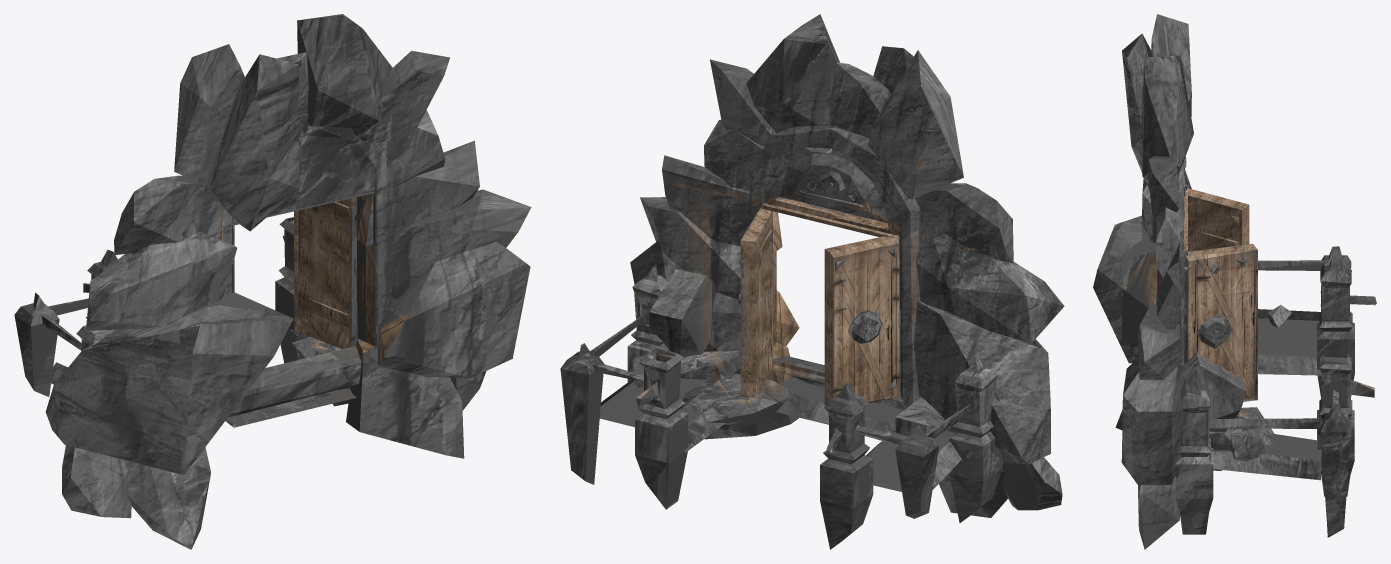
Rendered from gate2.glb.
The picture shows the model from 3 angles, left to right: view 1: azimuth 30°, elevation 25°; view 2: azimuth 150°, elevation 25°; view 3: azimuth 270°, elevation 25°; orthographic projection. The views are drawn at different scales.
Visible parts, largest first — view 1: Cube.002; view 2: Cube.002; view 3: Cube.002.
Boxes of the visible parts, bbox=[...] form: Cube.002: bbox=[14, 14, 531, 549]; Cube.002: bbox=[560, 14, 1064, 549]; Cube.002: bbox=[1093, 14, 1376, 549].
Size of the model in its own units: 6.97 by 7.06 by 4.06.
Materials: 1 (1 with a texture image).
